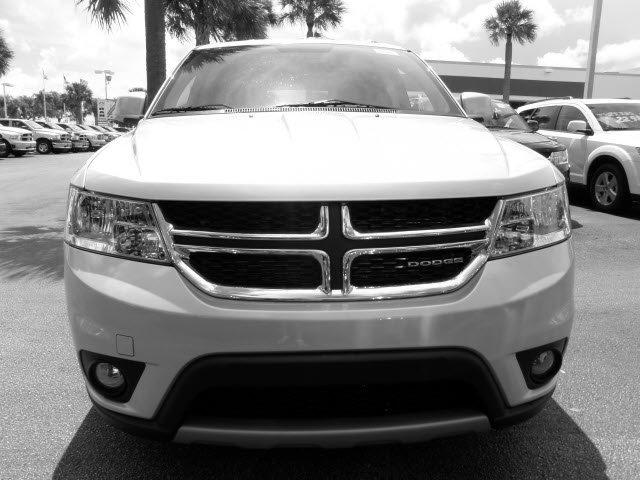car: (66, 39, 576, 446)
